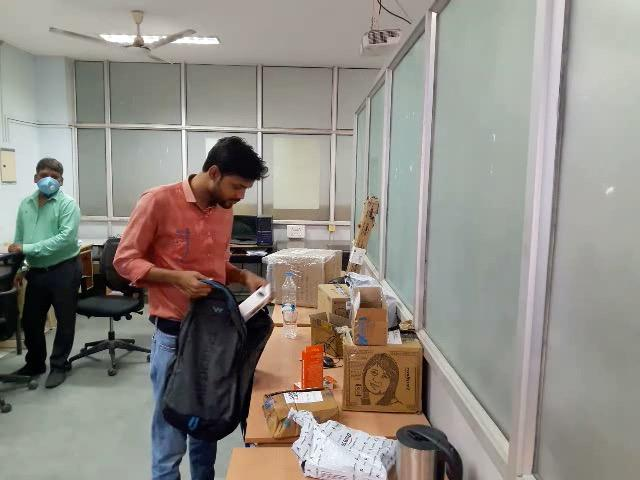shoplifting: (97, 232, 283, 440)
